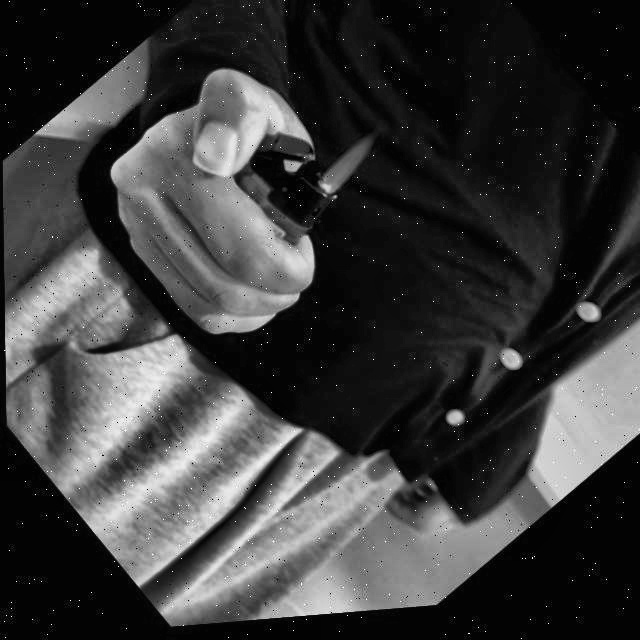Fire: (309, 126, 396, 208)
